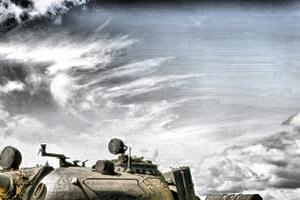tanks: (1, 140, 203, 200), (206, 196, 263, 200)
